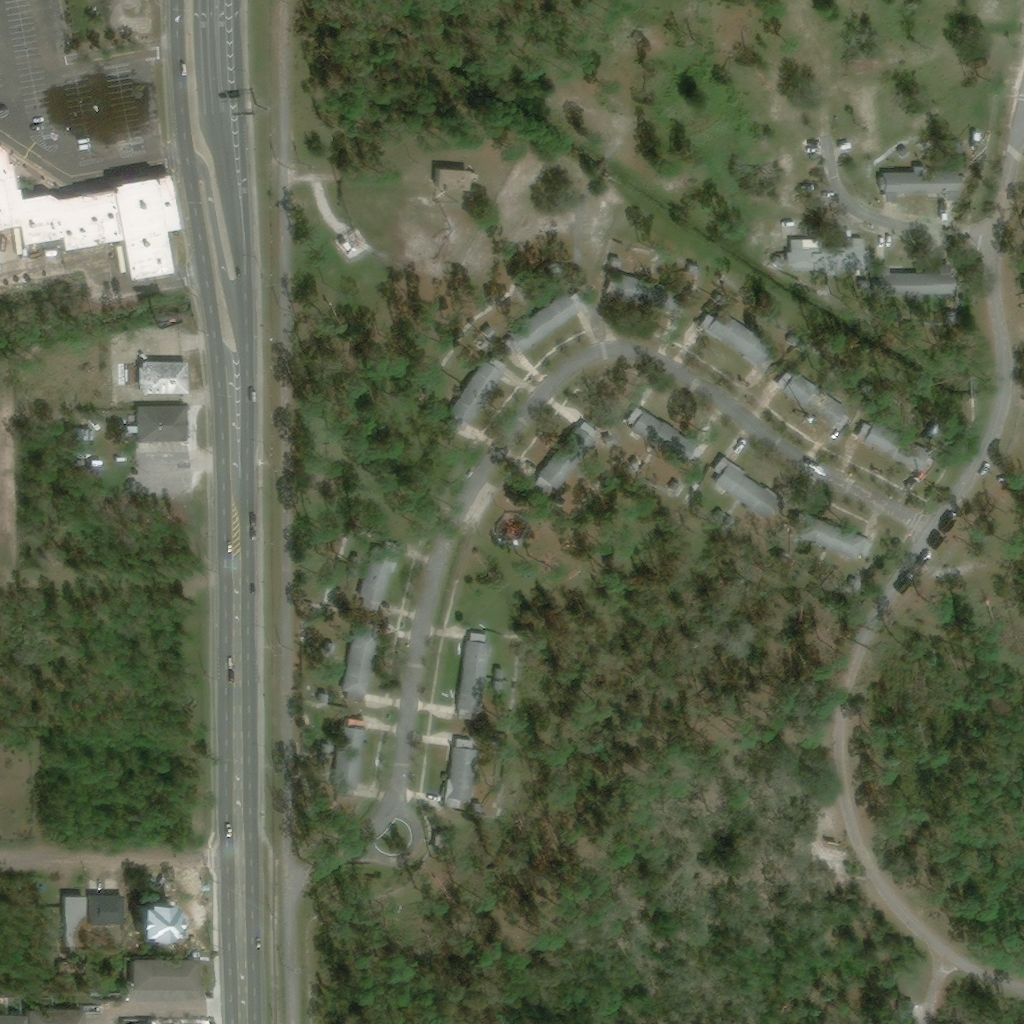minor_damage: (138, 359, 189, 397)
no_damage: (0, 148, 183, 283), (503, 290, 590, 360), (442, 352, 512, 437), (701, 307, 784, 375), (771, 369, 854, 436), (873, 149, 967, 208), (856, 422, 941, 480), (711, 455, 782, 521), (623, 406, 698, 466), (537, 421, 598, 492), (603, 270, 689, 318), (341, 621, 382, 700), (456, 634, 493, 720), (786, 237, 874, 272), (875, 262, 960, 296), (811, 520, 874, 564), (331, 718, 367, 794), (130, 957, 205, 993), (358, 542, 399, 607), (442, 739, 479, 810), (138, 405, 188, 444), (438, 349, 475, 386), (88, 892, 123, 924), (63, 894, 83, 948), (435, 169, 474, 195), (139, 899, 168, 932), (27, 1009, 85, 1023), (336, 233, 363, 259), (429, 343, 451, 367), (0, 1013, 27, 1023), (320, 745, 331, 755), (319, 695, 328, 706), (494, 683, 502, 693), (495, 671, 502, 680)
